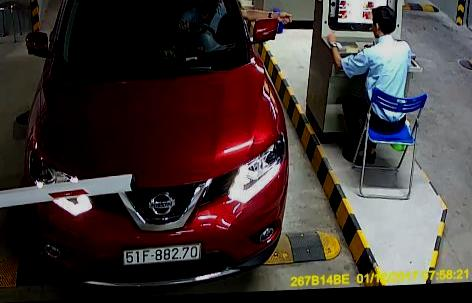License_Plate: (118, 239, 204, 268)
